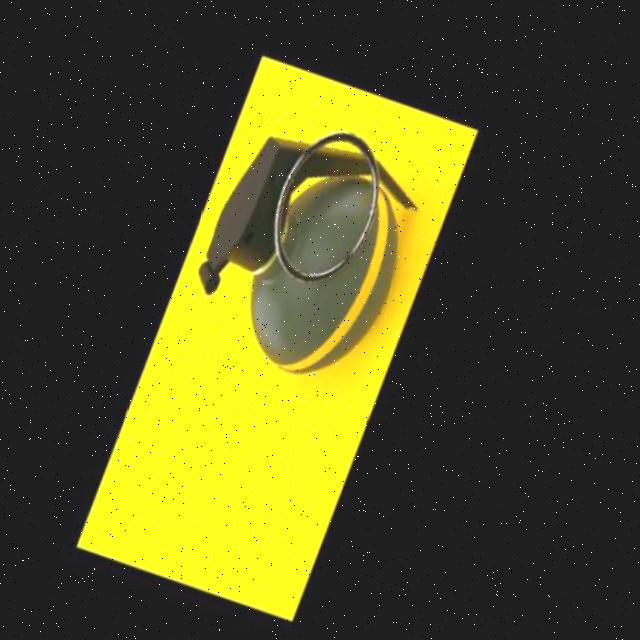grenade: (164, 83, 449, 407)
